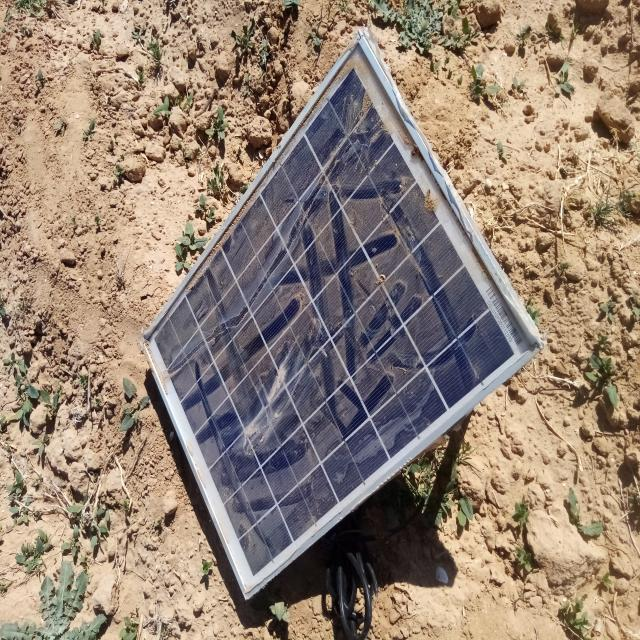faulty: (143, 37, 541, 595)
